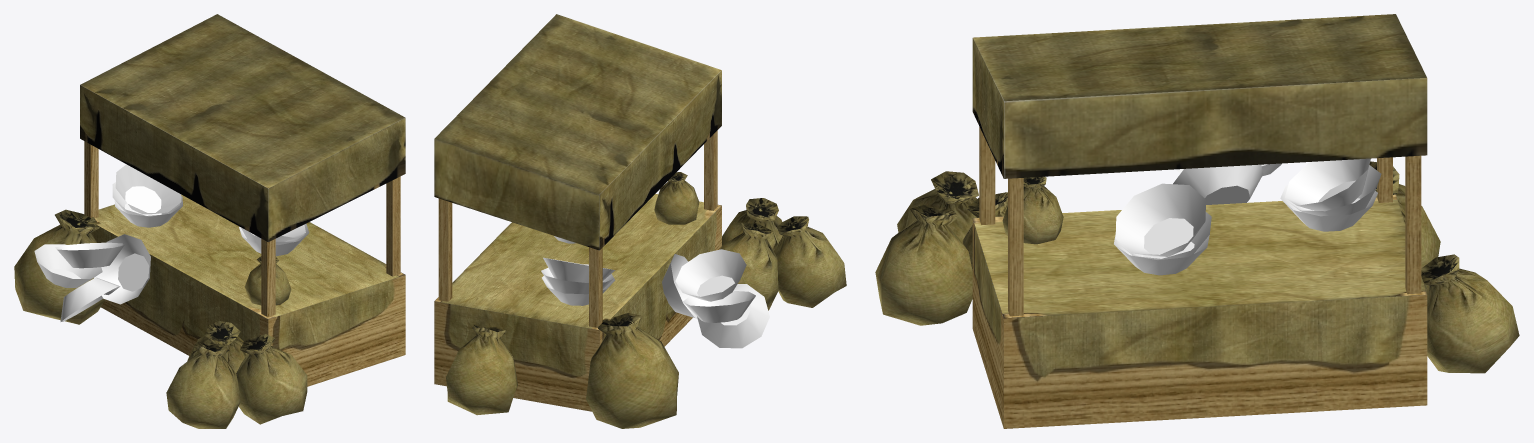
File: store11.fbx
3 views of the same model, side by side, from view 1: azimuth 30°, elevation 25°; view 2: azimuth 150°, elevation 25°; view 3: azimuth 270°, elevation 25° (orthographic). The views are drawn at different scales.
Parts seen in each view (by area): view 1: stand_4, bag_63, bag_65, bag_64, bowl_33, bowl_39, bowl_32, bowl_31, bag_66, bowl_34, bag_68, bowl_40 (+2 smaller); view 2: stand_4, bag_64, bag_67, bag_63, bowl_31, bag_66, bowl_34, bag_68, bag_65, bowl_32, bowl_33, bowl_39 (+2 smaller); view 3: stand_4, bag_65, bag_67, bowl_37, bowl_39, bowl_33, bag_63, bag_68, bag_64, bowl_40, bowl_35, bowl_38 (+2 smaller).
Part boxes in pixels (<box>): stand_4: <box>80,14,405,386</box>; bag_63: <box>166,342,240,428</box>; bag_65: <box>236,334,307,424</box>; bag_64: <box>14,209,105,324</box>; bowl_33: <box>94,234,150,304</box>; bowl_39: <box>115,164,181,214</box>; bowl_32: <box>34,244,102,287</box>; bowl_31: <box>55,242,124,268</box>; bag_66: <box>187,321,246,372</box>; bowl_34: <box>60,277,120,321</box>; bag_68: <box>244,256,291,305</box>; bowl_40: <box>114,196,182,227</box>; stand_4: <box>434,14,721,411</box>; bag_64: <box>586,313,678,428</box>; bag_67: <box>446,325,517,415</box>; bag_63: <box>774,216,846,307</box>; bowl_31: <box>675,249,746,301</box>; bag_66: <box>720,222,778,310</box>; bowl_34: <box>697,284,769,348</box>; bag_68: <box>654,172,699,224</box>; bag_65: <box>722,198,782,250</box>; bowl_32: <box>683,290,755,322</box>; bowl_33: <box>662,254,697,318</box>; bowl_39: <box>543,257,615,282</box>; stand_4: <box>972,14,1427,428</box>; bag_65: <box>875,205,972,325</box>; bag_67: <box>1421,254,1519,373</box>; bowl_37: <box>1115,183,1205,256</box>; bowl_39: <box>1285,158,1370,211</box>; bowl_33: <box>1173,164,1263,204</box>; bag_63: <box>897,171,978,242</box>; bag_68: <box>1002,176,1063,244</box>; bag_64: <box>1369,161,1440,287</box>; bowl_40: <box>1280,185,1377,231</box>; bowl_35: <box>1114,235,1209,275</box>; bowl_38: <box>1286,165,1381,216</box>.
Size of the model in its own units: 68.42 by 58.25 by 99.58.
